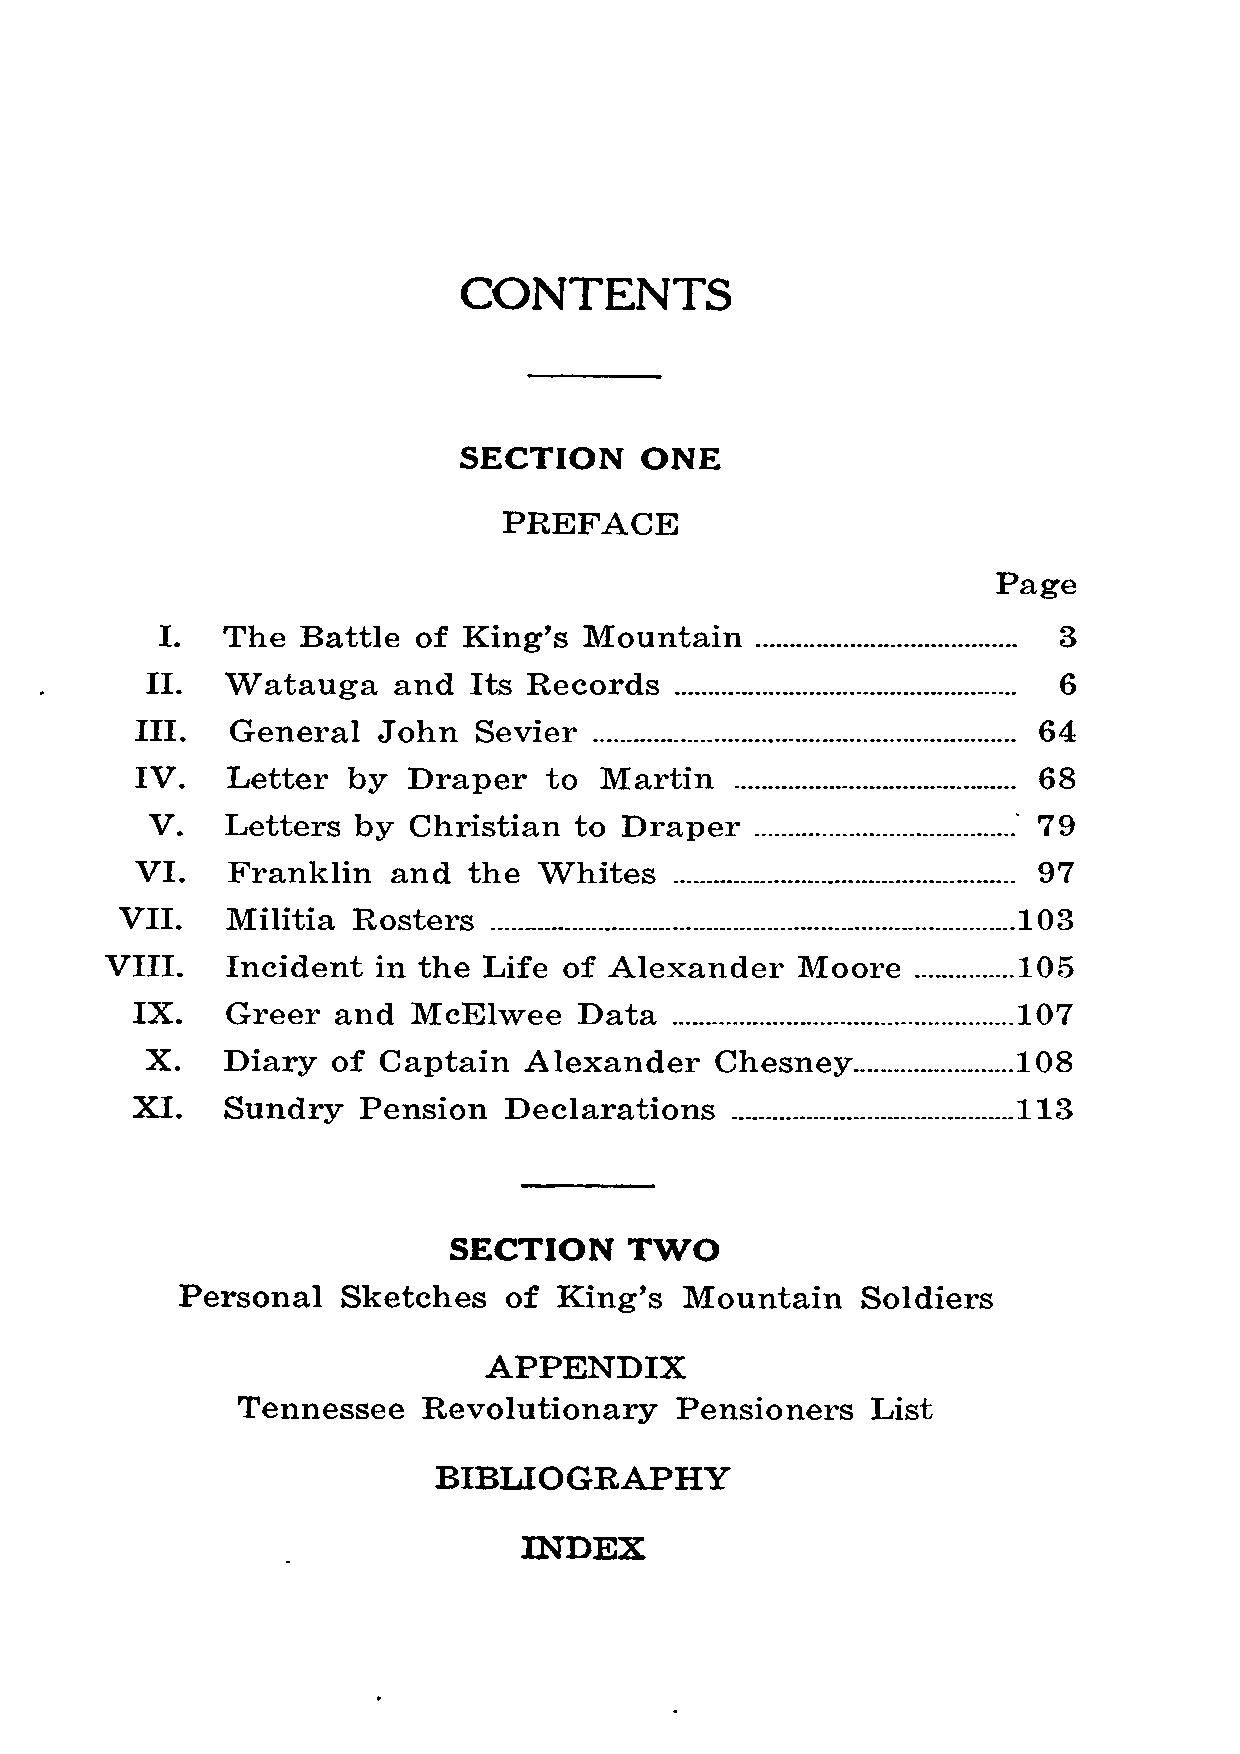TOC_chapter: (164, 1231, 996, 1315), (231, 1349, 939, 1427), (101, 951, 899, 981), (152, 617, 743, 656), (142, 1045, 854, 1078), (129, 1092, 721, 1129), (130, 761, 718, 796), (146, 809, 742, 843), (145, 666, 662, 701), (127, 996, 658, 1028), (133, 858, 658, 884), (136, 714, 582, 745), (431, 1459, 727, 1499), (113, 903, 476, 934), (456, 442, 727, 475), (497, 506, 690, 542), (517, 1533, 652, 1567)
TOC_pagenumber: (1016, 1045, 1076, 1076), (1015, 1095, 1076, 1125), (1015, 998, 1074, 1028), (1016, 906, 1078, 931), (1019, 951, 1076, 978), (1037, 762, 1079, 793), (1036, 811, 1080, 837), (1037, 854, 1074, 886), (1037, 715, 1080, 742), (1055, 621, 1082, 652), (1057, 668, 1076, 697)
chapter: (454, 270, 733, 315)
